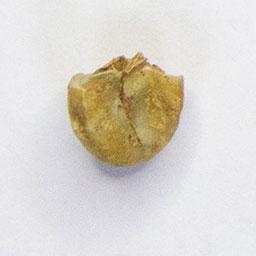defect: (65, 49, 187, 171)
